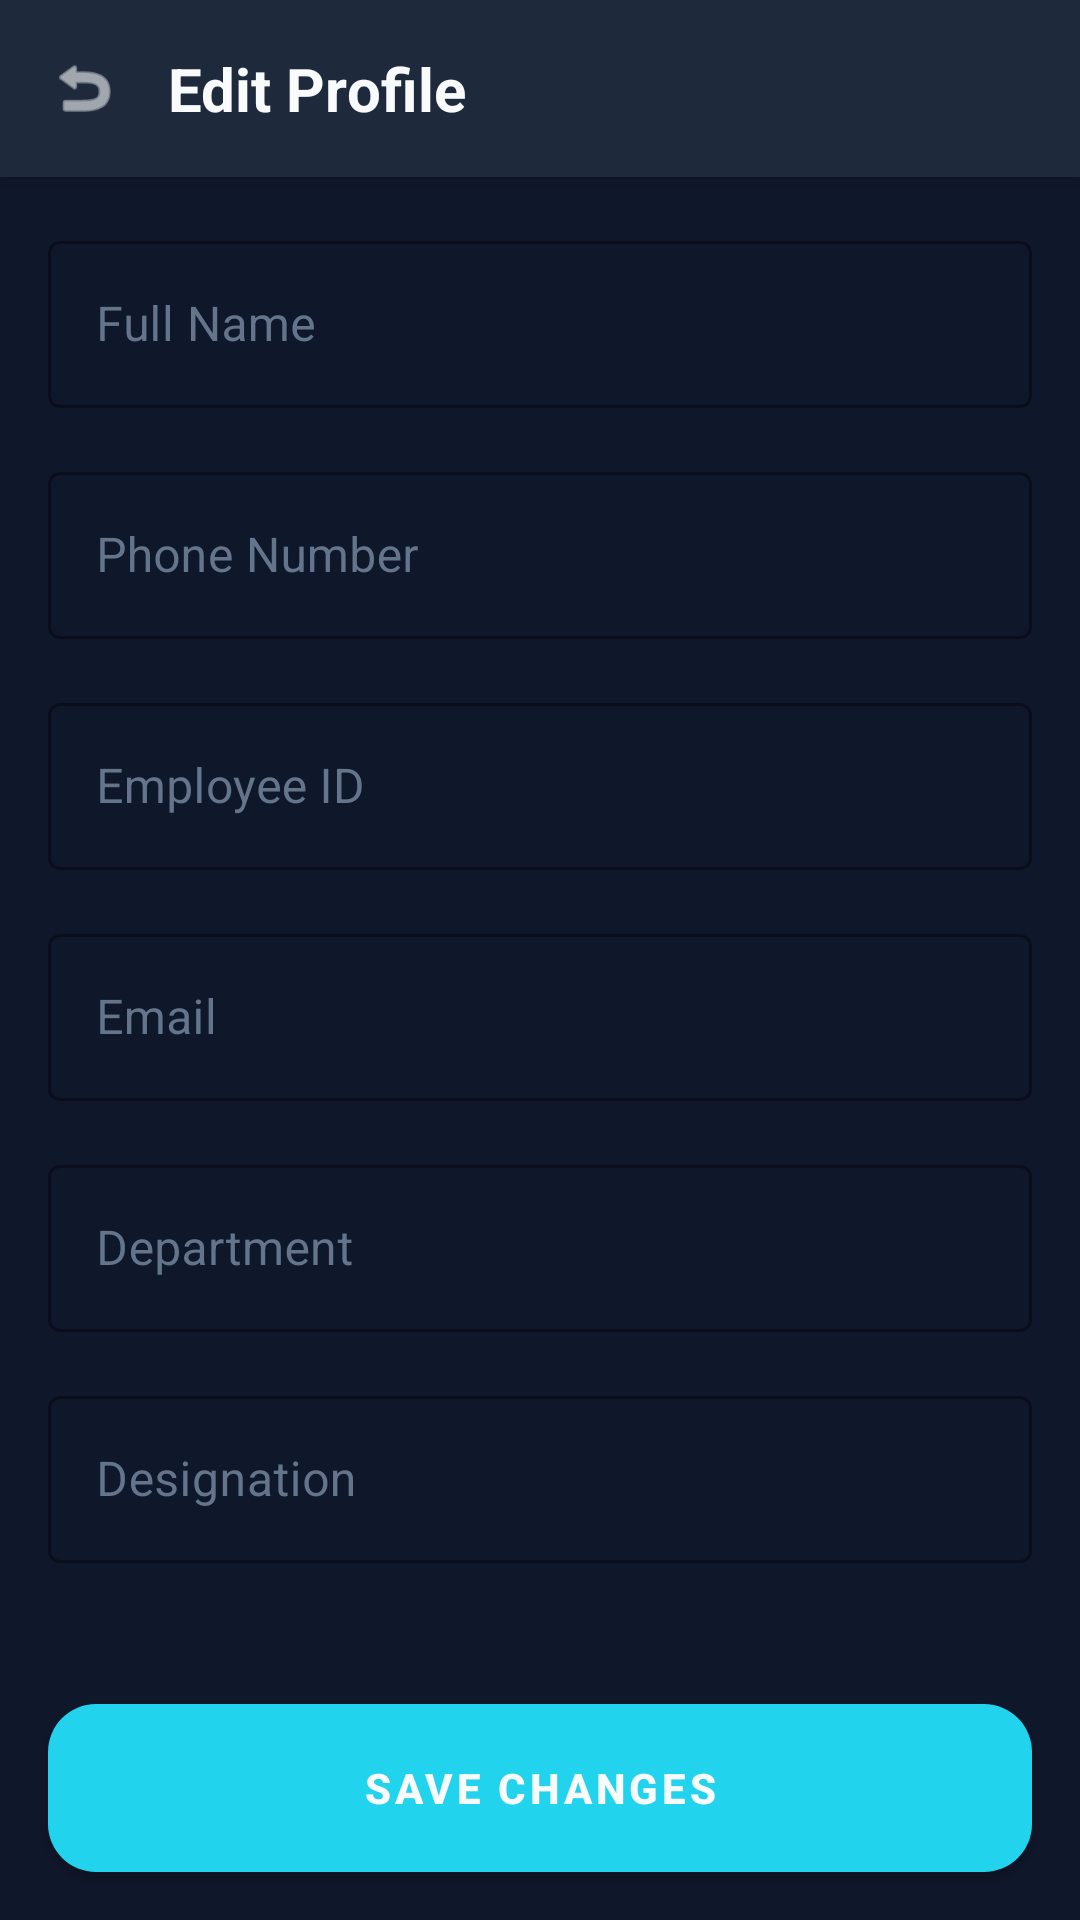

Locate icon controls on the screen. Image size 1080*1920, boxes as region(x1, y1, x2, y2).
revert: region(59, 65, 111, 112)
